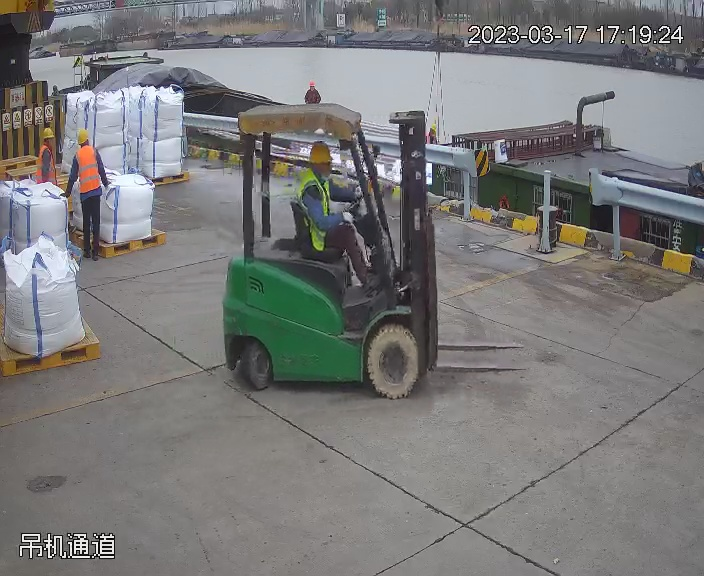head: (295, 142, 342, 201), (71, 126, 102, 165), (37, 125, 58, 165), (306, 77, 321, 103)
helmet: (307, 142, 334, 164), (76, 127, 91, 144), (40, 126, 56, 140), (309, 79, 316, 86)
people: (292, 142, 377, 295), (69, 123, 113, 257), (32, 125, 61, 187)
